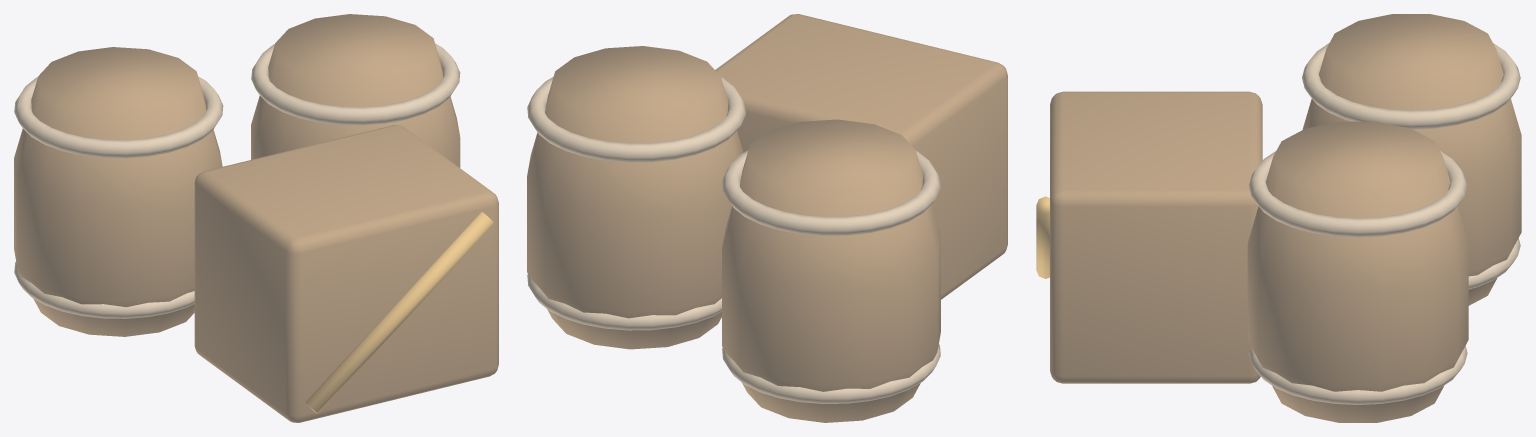
Rendered from castle_detail_barrels_purified.glb.
3 renders of one model, left to right at view 1: azimuth 30°, elevation 25°; view 2: azimuth 150°, elevation 25°; view 3: azimuth 270°, elevation 25°, orthographic. The views are drawn at different scales.
Parts seen in each view (by area): view 1: castle_detail_barrels_purified_surface; view 2: castle_detail_barrels_purified_surface; view 3: castle_detail_barrels_purified_surface.
Part boxes in pixels (x1,y1,x2,y2): castle_detail_barrels_purified_surface: (14,14,498,422); castle_detail_barrels_purified_surface: (527,14,1007,422); castle_detail_barrels_purified_surface: (1036,14,1521,422).
Bounding box in the file's own units: 2.23 × 1.2 × 2.28.
